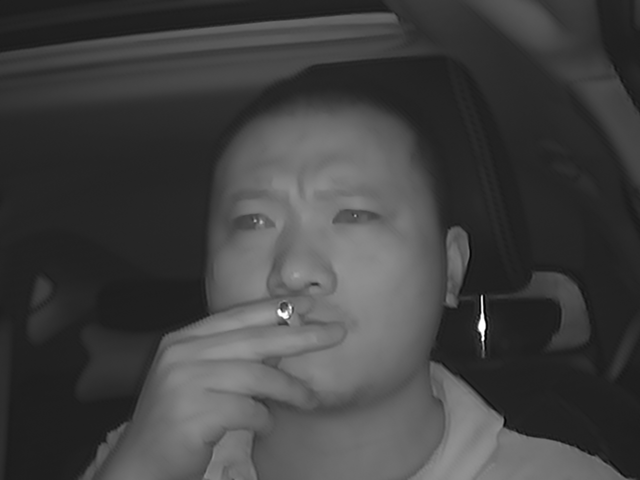hand: (188, 291, 340, 441)
